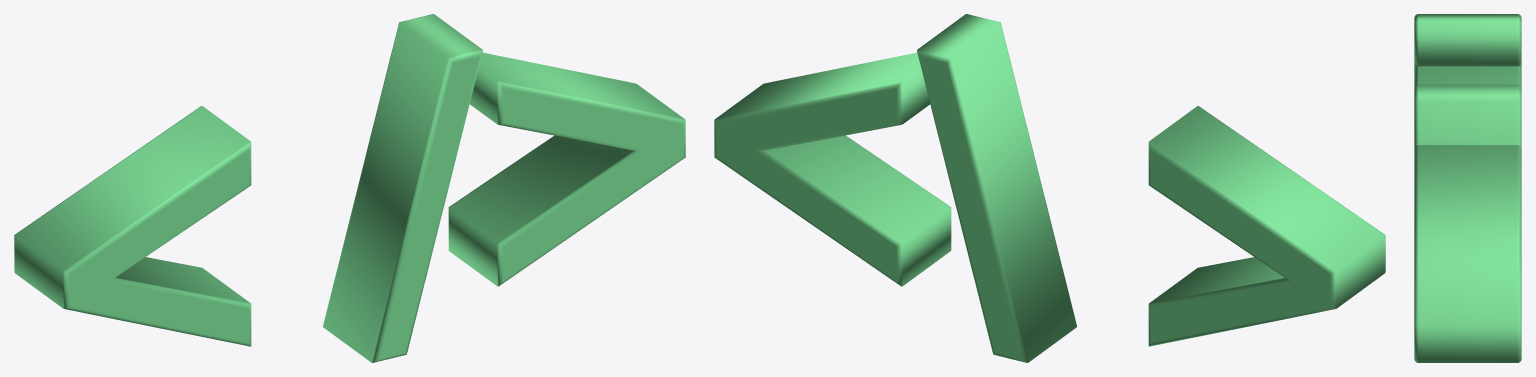
The model's file is html.glb.
3 views of the same model, side by side, from view 1: azimuth 30°, elevation 25°; view 2: azimuth 150°, elevation 25°; view 3: azimuth 270°, elevation 25° (orthographic). The views are drawn at different scales.
Parts seen in each view (by area): view 1: Text; view 2: Text; view 3: Text.
Boxes of the visible parts, <box> form: Text: <box>14,14,685,362</box>; Text: <box>714,14,1385,362</box>; Text: <box>1414,14,1521,362</box>.
Size of the model in its own units: 1.64 by 0.72 by 0.24.
